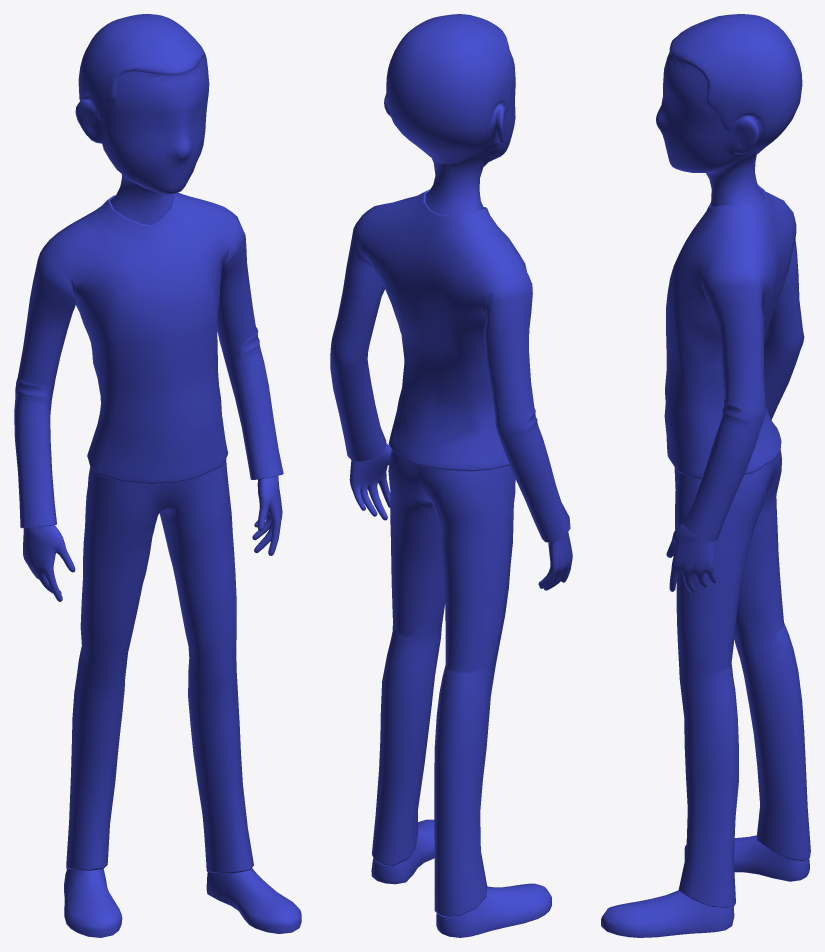
The model's file is Man.glb.
3 views of the same model, side by side, from view 1: azimuth 30°, elevation 25°; view 2: azimuth 150°, elevation 25°; view 3: azimuth 270°, elevation 25° (orthographic).
Parts seen in each view (by area): view 1: mesh_id34; view 2: mesh_id34; view 3: mesh_id34.
Part boxes in pixels (x1,y1,x2,y2): mesh_id34: (14, 14, 301, 937); mesh_id34: (330, 14, 572, 937); mesh_id34: (601, 14, 810, 937).
Size of the model in its own units: 0.1472 by 0.52 by 0.1139.
Materials: 1 (1 with a texture image).
